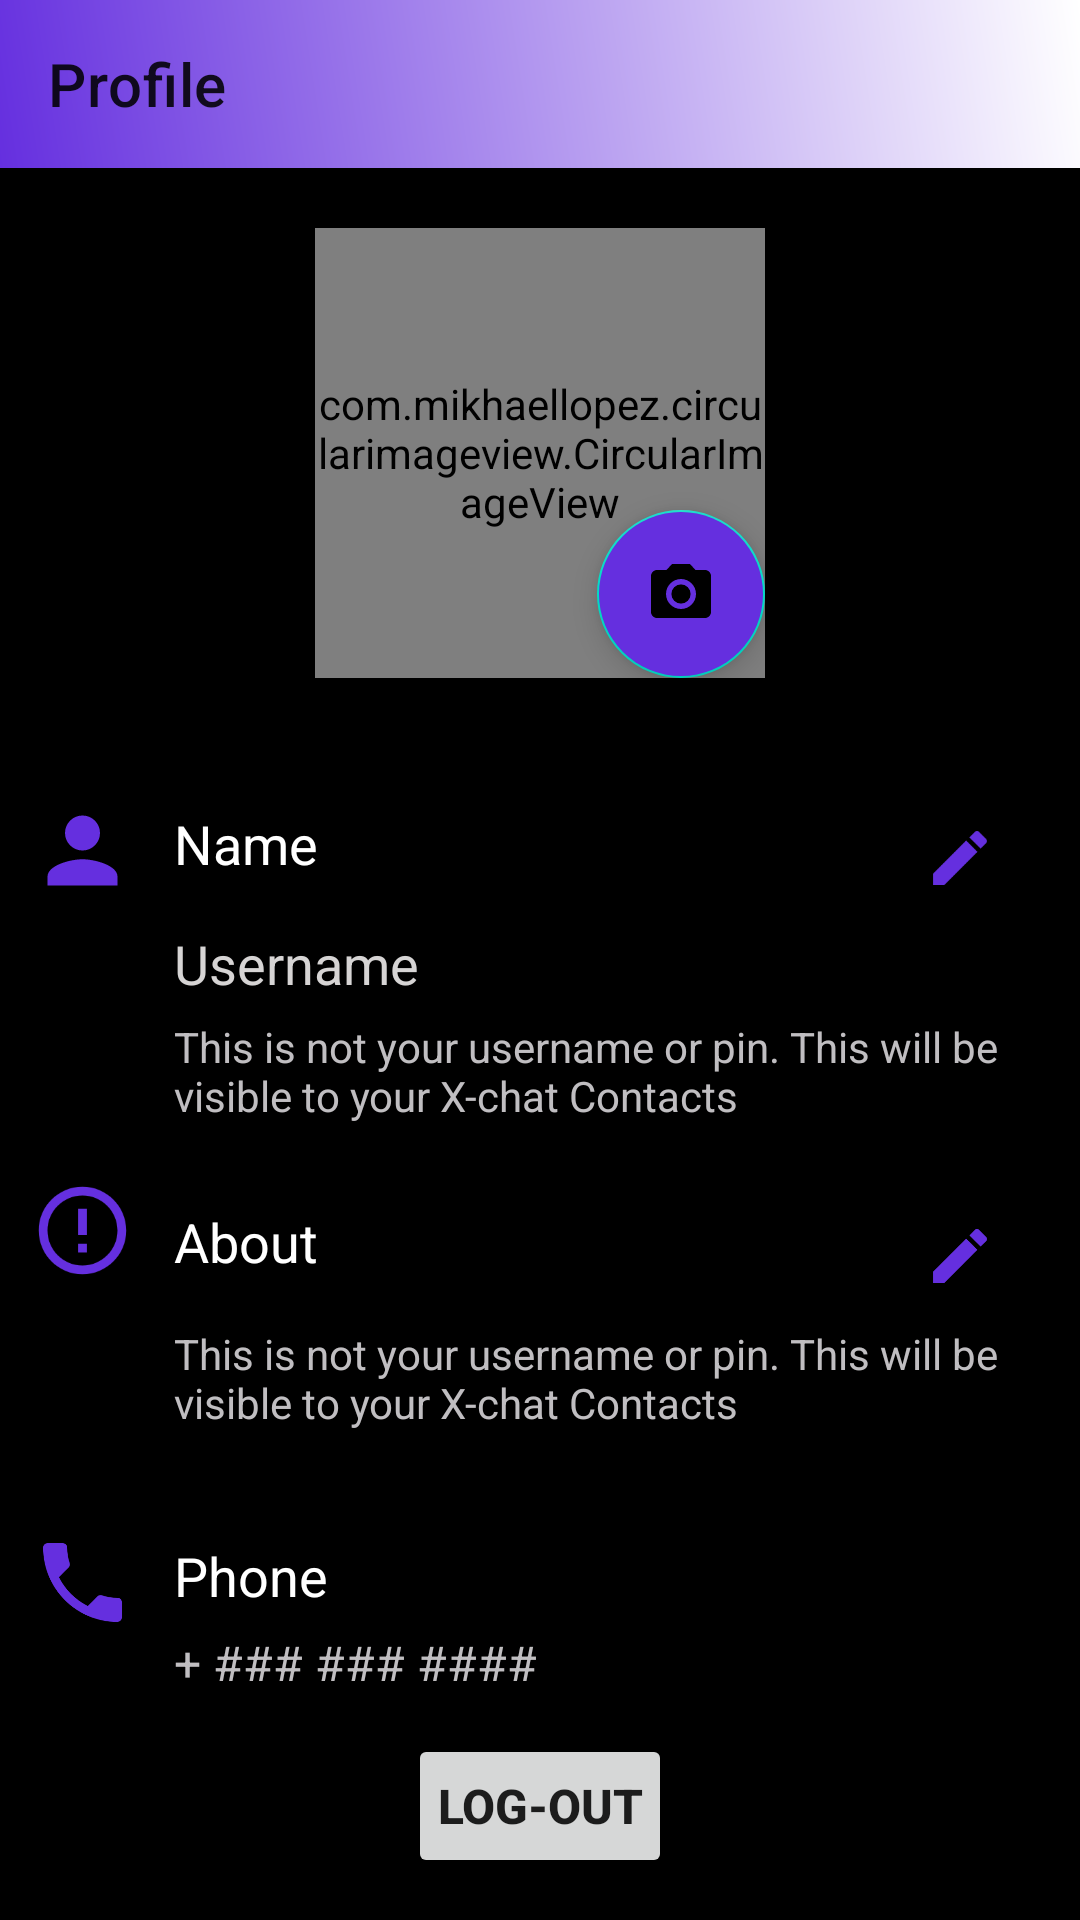

Screen size 1080px x 1920px. Icon name, then its center in pixels as point (x, y):
camera: point (681, 594)
create: point (960, 858), point (960, 1256)
error: point (82, 1230)
person: point (82, 850)
